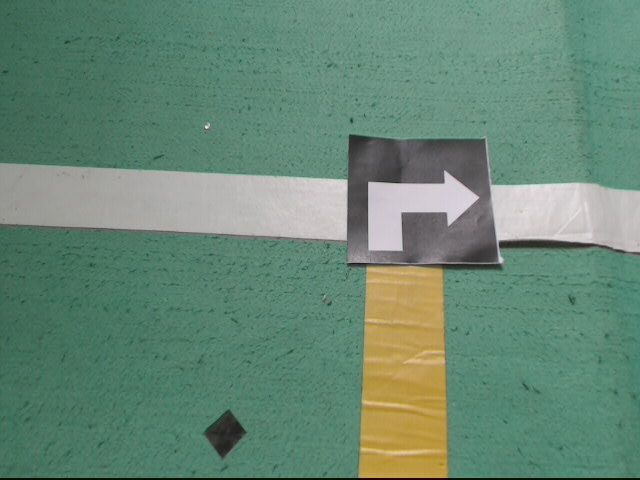right: (345, 133, 502, 270)
